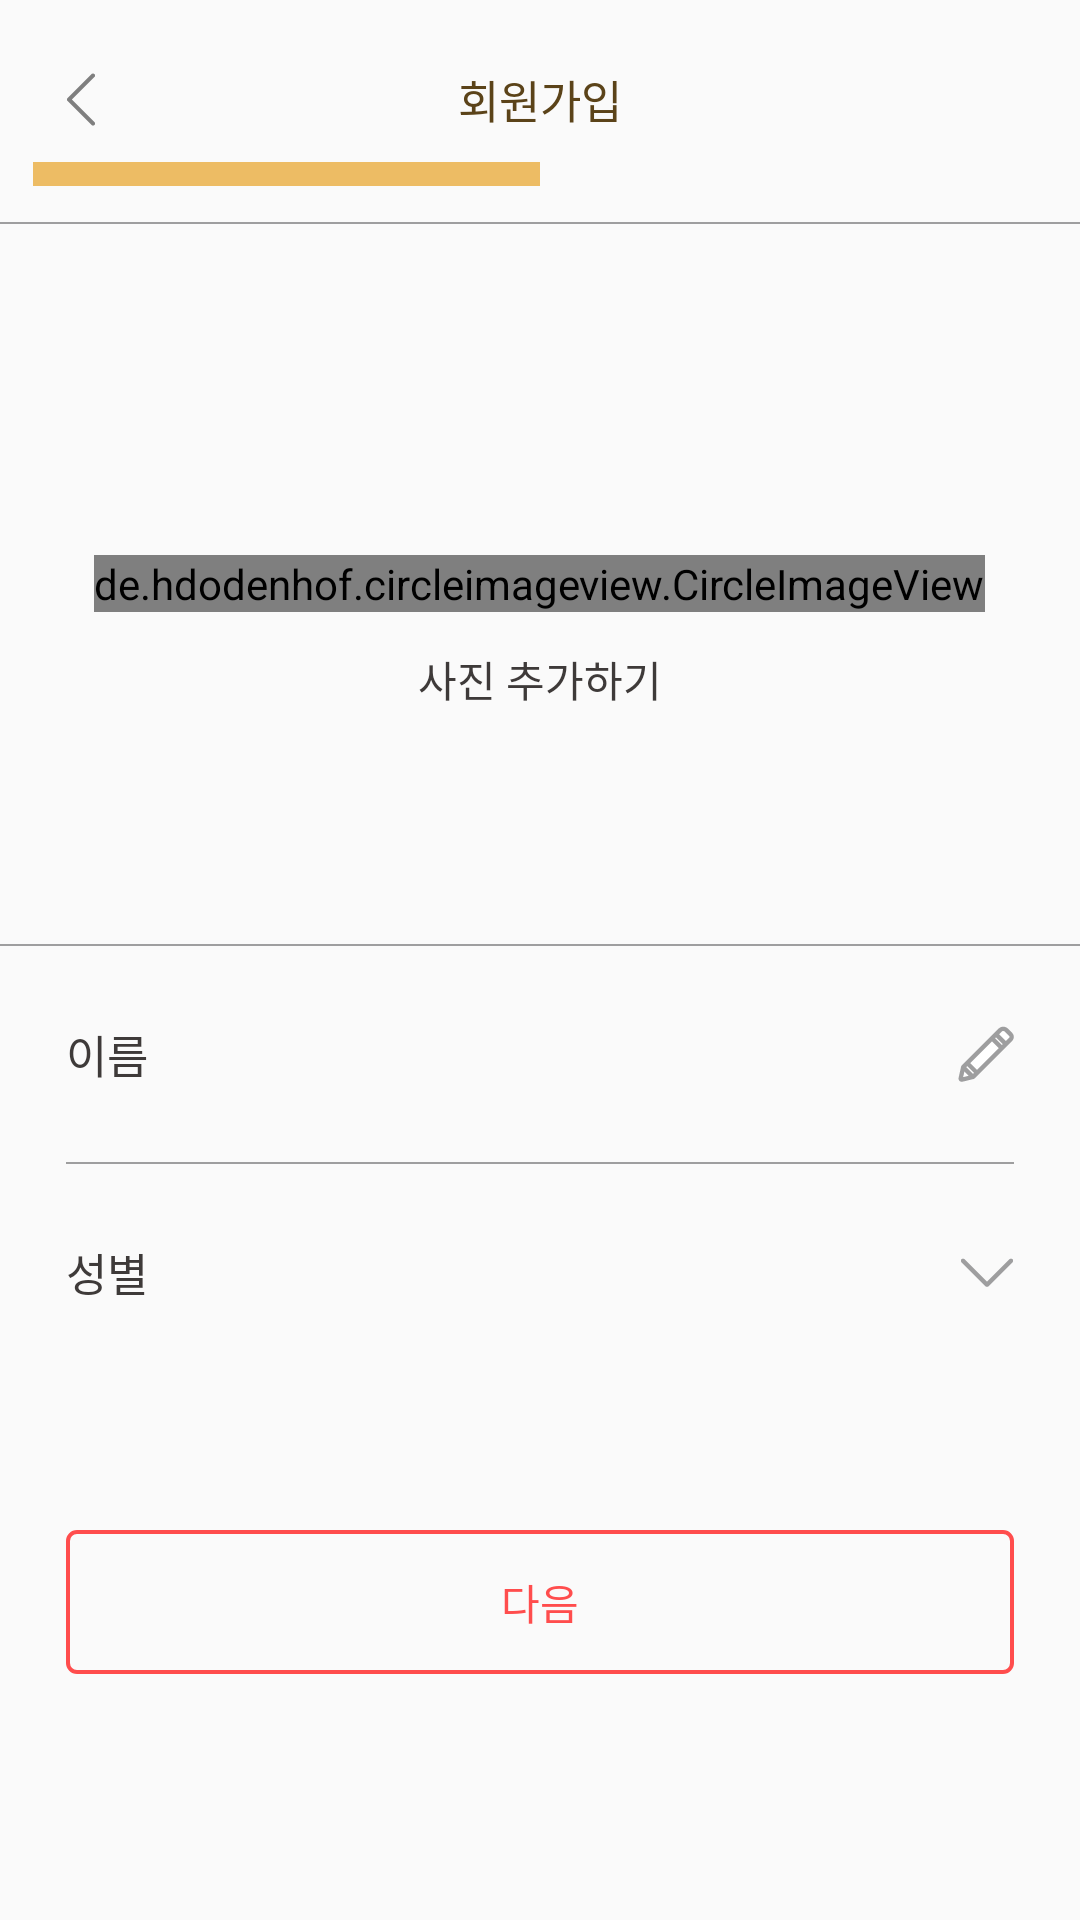

Icons on this 1080 x 1920 Android screen, each with the point to tap as (x=x, y=y):
back arrow: (x=81, y=99)
down arrow: (x=987, y=1273)
edit user name: (x=986, y=1054)
